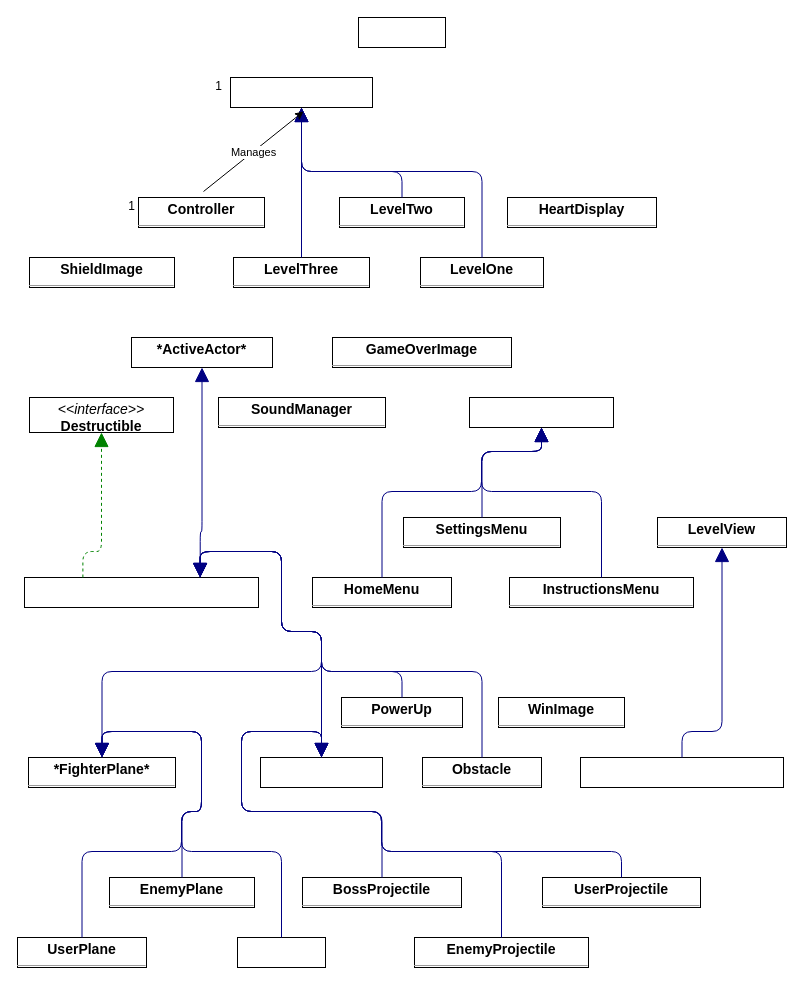
This 804x985 diagram has some shape labels left out. Here are the shapes that lost their labels. From the top down, the centre of each, then its label:
(402,32): Main
(301,92): *LevelParent*
(541,412): MenuParent
(141,592): *ActiveActorDestructible*
(321,772): *Projectile*
(682,772): LevelViewLevelTwo
(281,952): Boss
